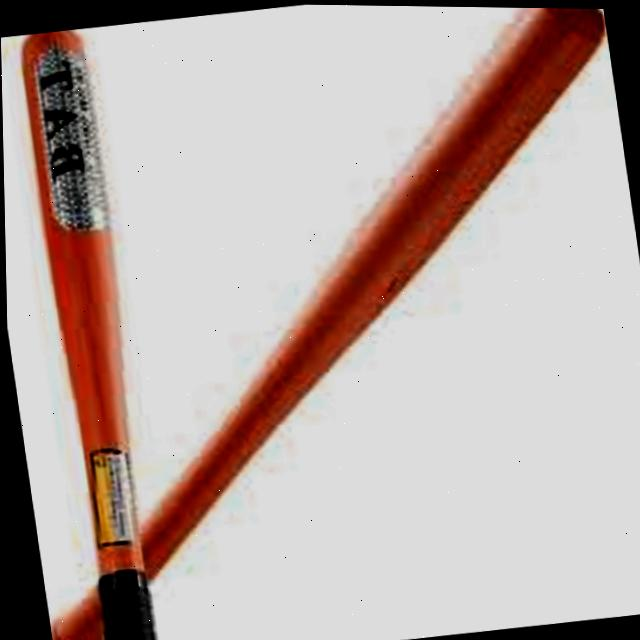baseball bat: (46, 6, 605, 640), (18, 29, 150, 640)
